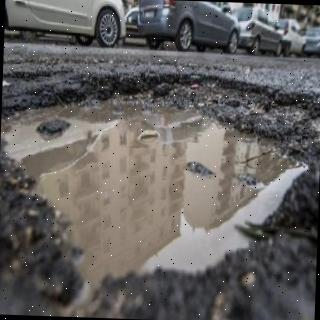pothole: (1, 76, 320, 288)
